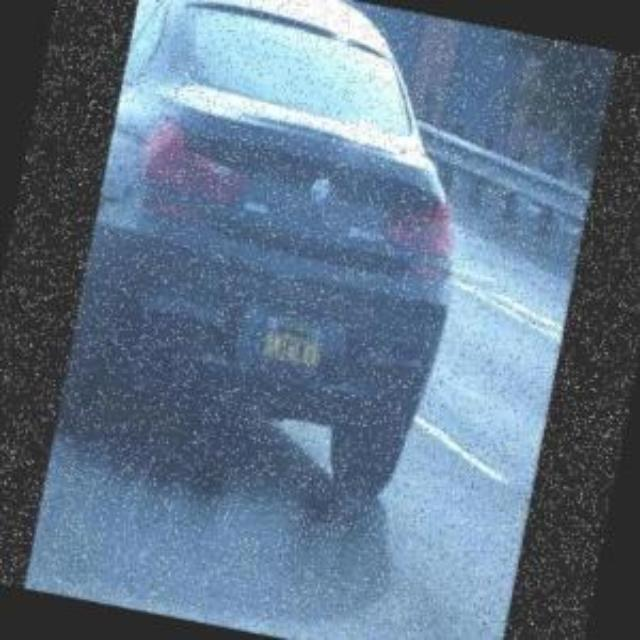license_plate: (252, 302, 336, 382)
